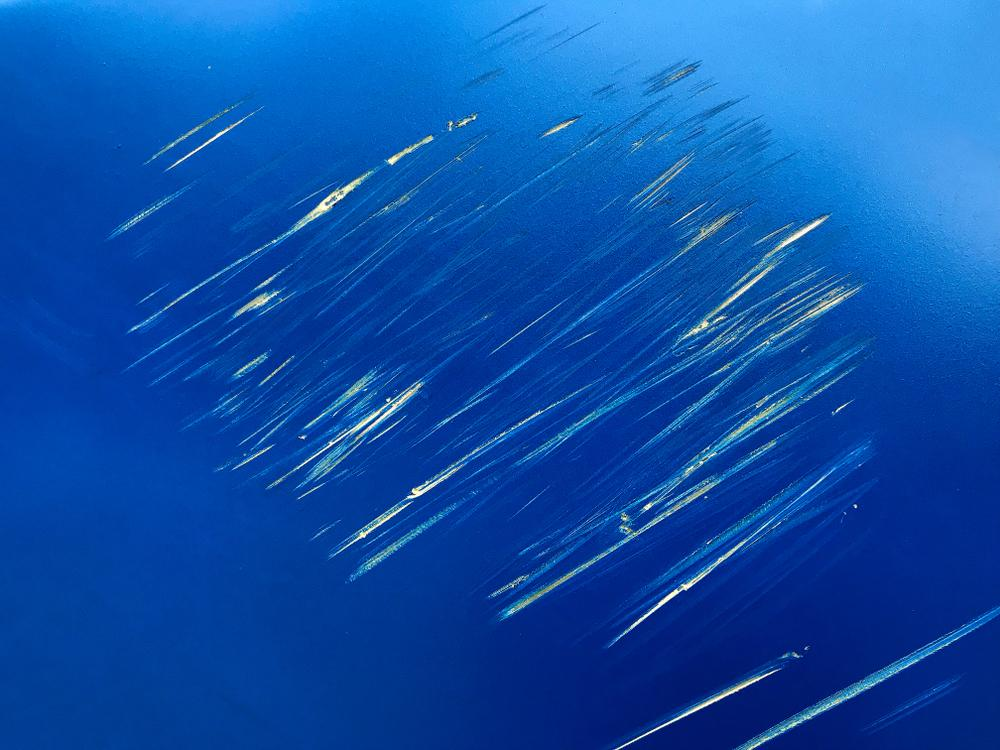scratch: (103, 0, 887, 750)
